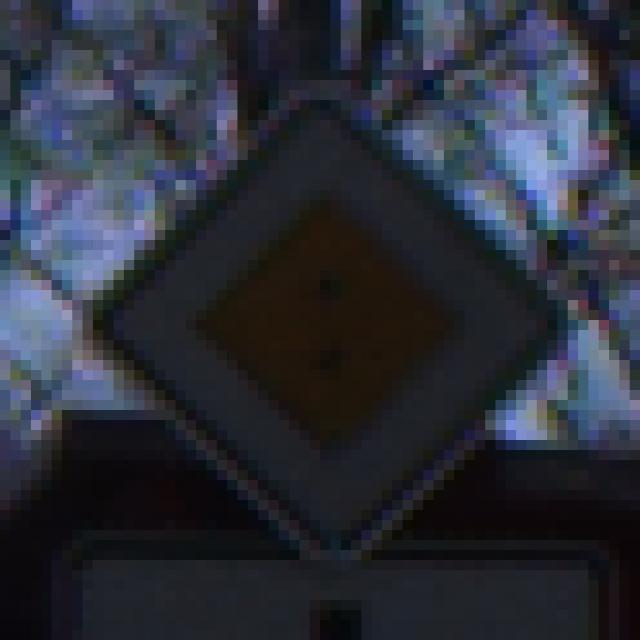Main Road: (63, 61, 589, 591)
